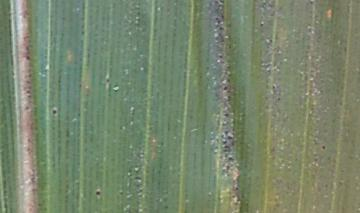tarspot: (110, 81, 121, 93), (219, 84, 229, 94), (94, 187, 103, 198), (319, 142, 327, 153), (50, 106, 58, 116)
